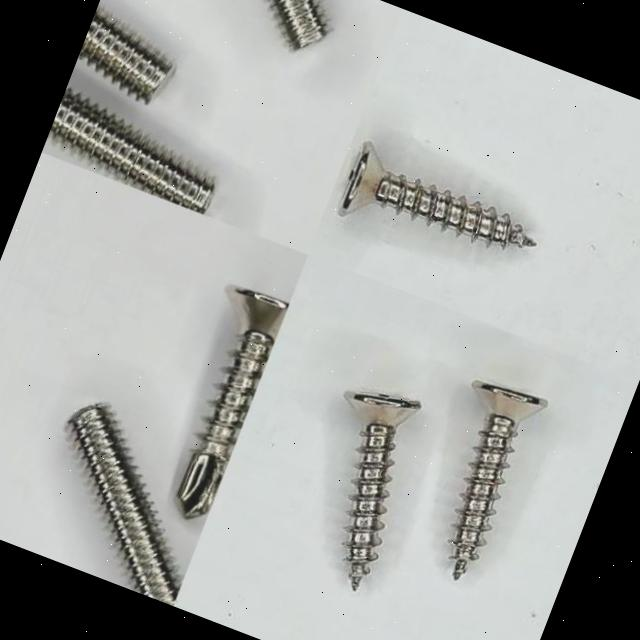Screw: (178, 285, 289, 519), (68, 405, 183, 606), (48, 88, 215, 215), (337, 143, 537, 249), (450, 381, 548, 580), (344, 391, 421, 591), (78, 6, 173, 102), (79, 7, 171, 103), (268, 0, 329, 50)
